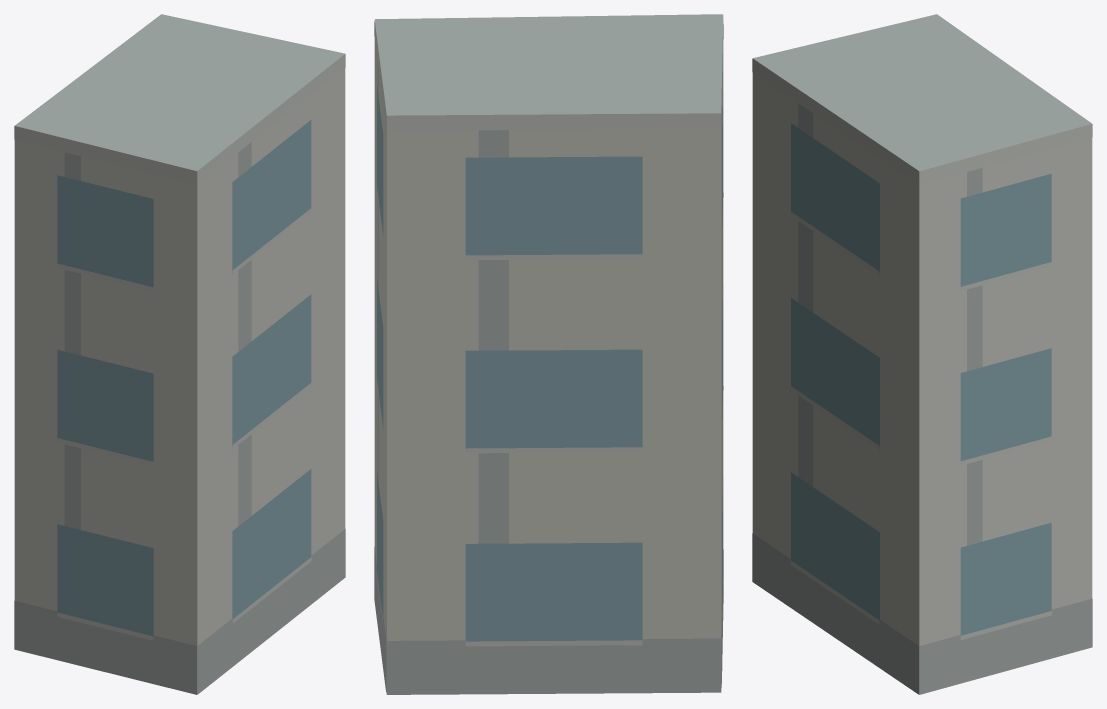
File: survey-upis-32849345.glb
3 views of the same model, side by side, from view 1: azimuth 30°, elevation 25°; view 2: azimuth 150°, elevation 25°; view 3: azimuth 270°, elevation 25° (orthographic). The views are drawn at different scales.
Visible parts, largest first — view 1: survey-upis-32849345.tmp; view 2: survey-upis-32849345.tmp; view 3: survey-upis-32849345.tmp.
Boxes of the visible parts, <box> form: survey-upis-32849345.tmp: <box>14,14,345,694</box>; survey-upis-32849345.tmp: <box>374,14,723,694</box>; survey-upis-32849345.tmp: <box>752,14,1092,694</box>.
Bounding box in the file's own units: 5.9 × 9.15 × 5.39.
